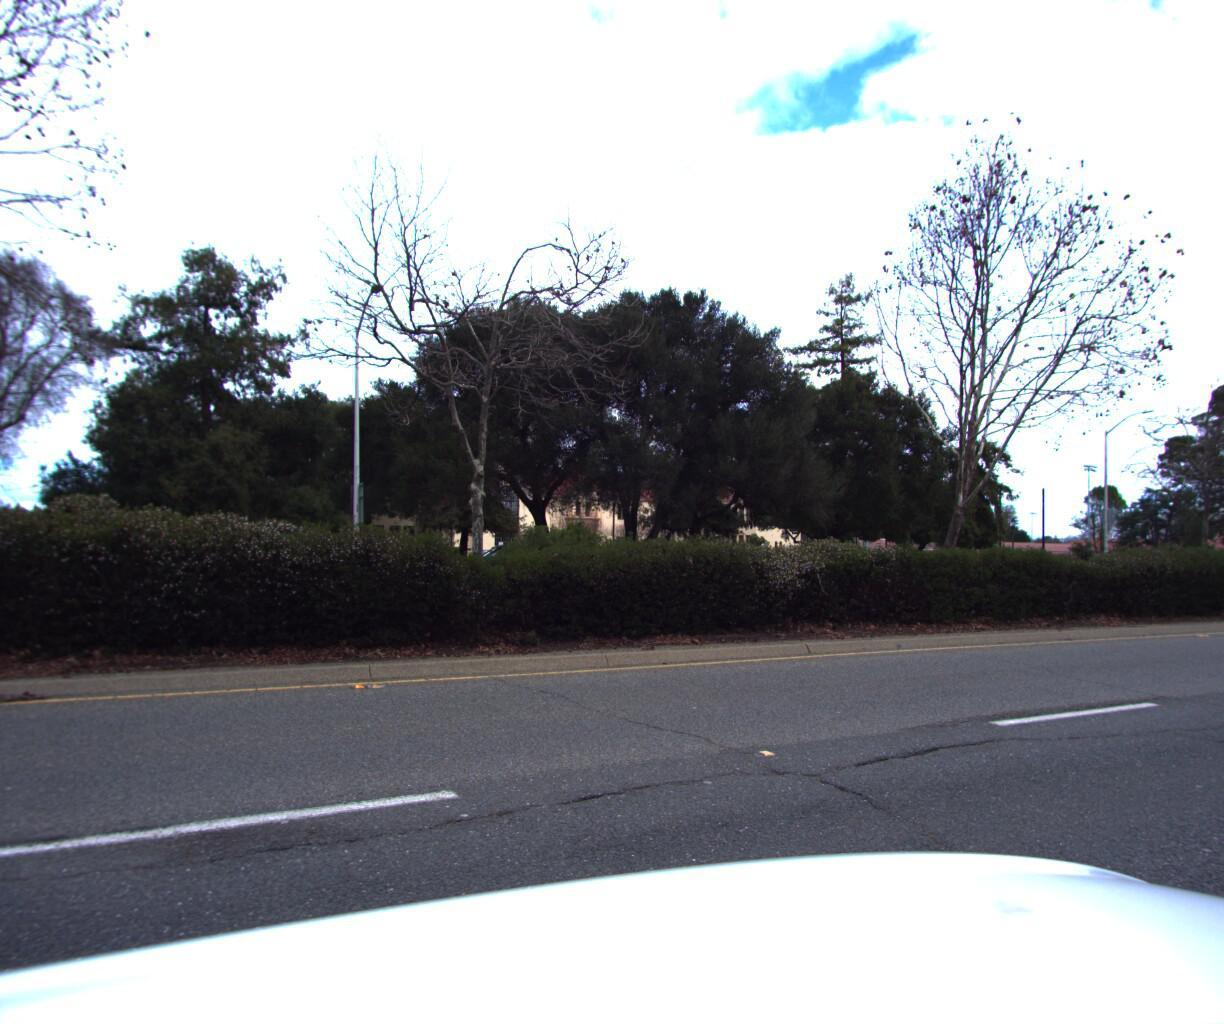car: (433, 530, 587, 585)
